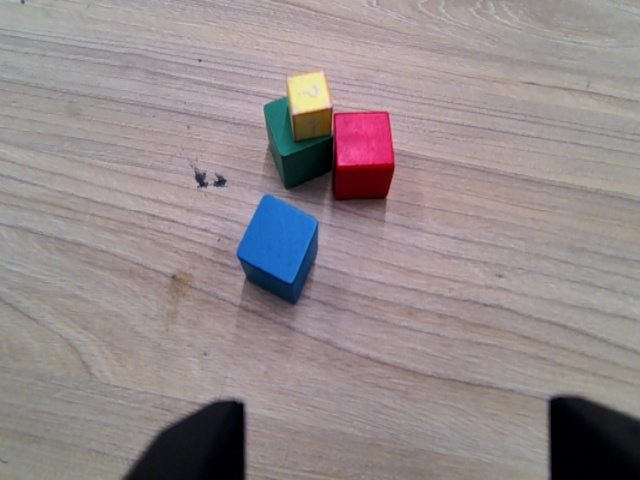lucky: (281, 65, 338, 144)
